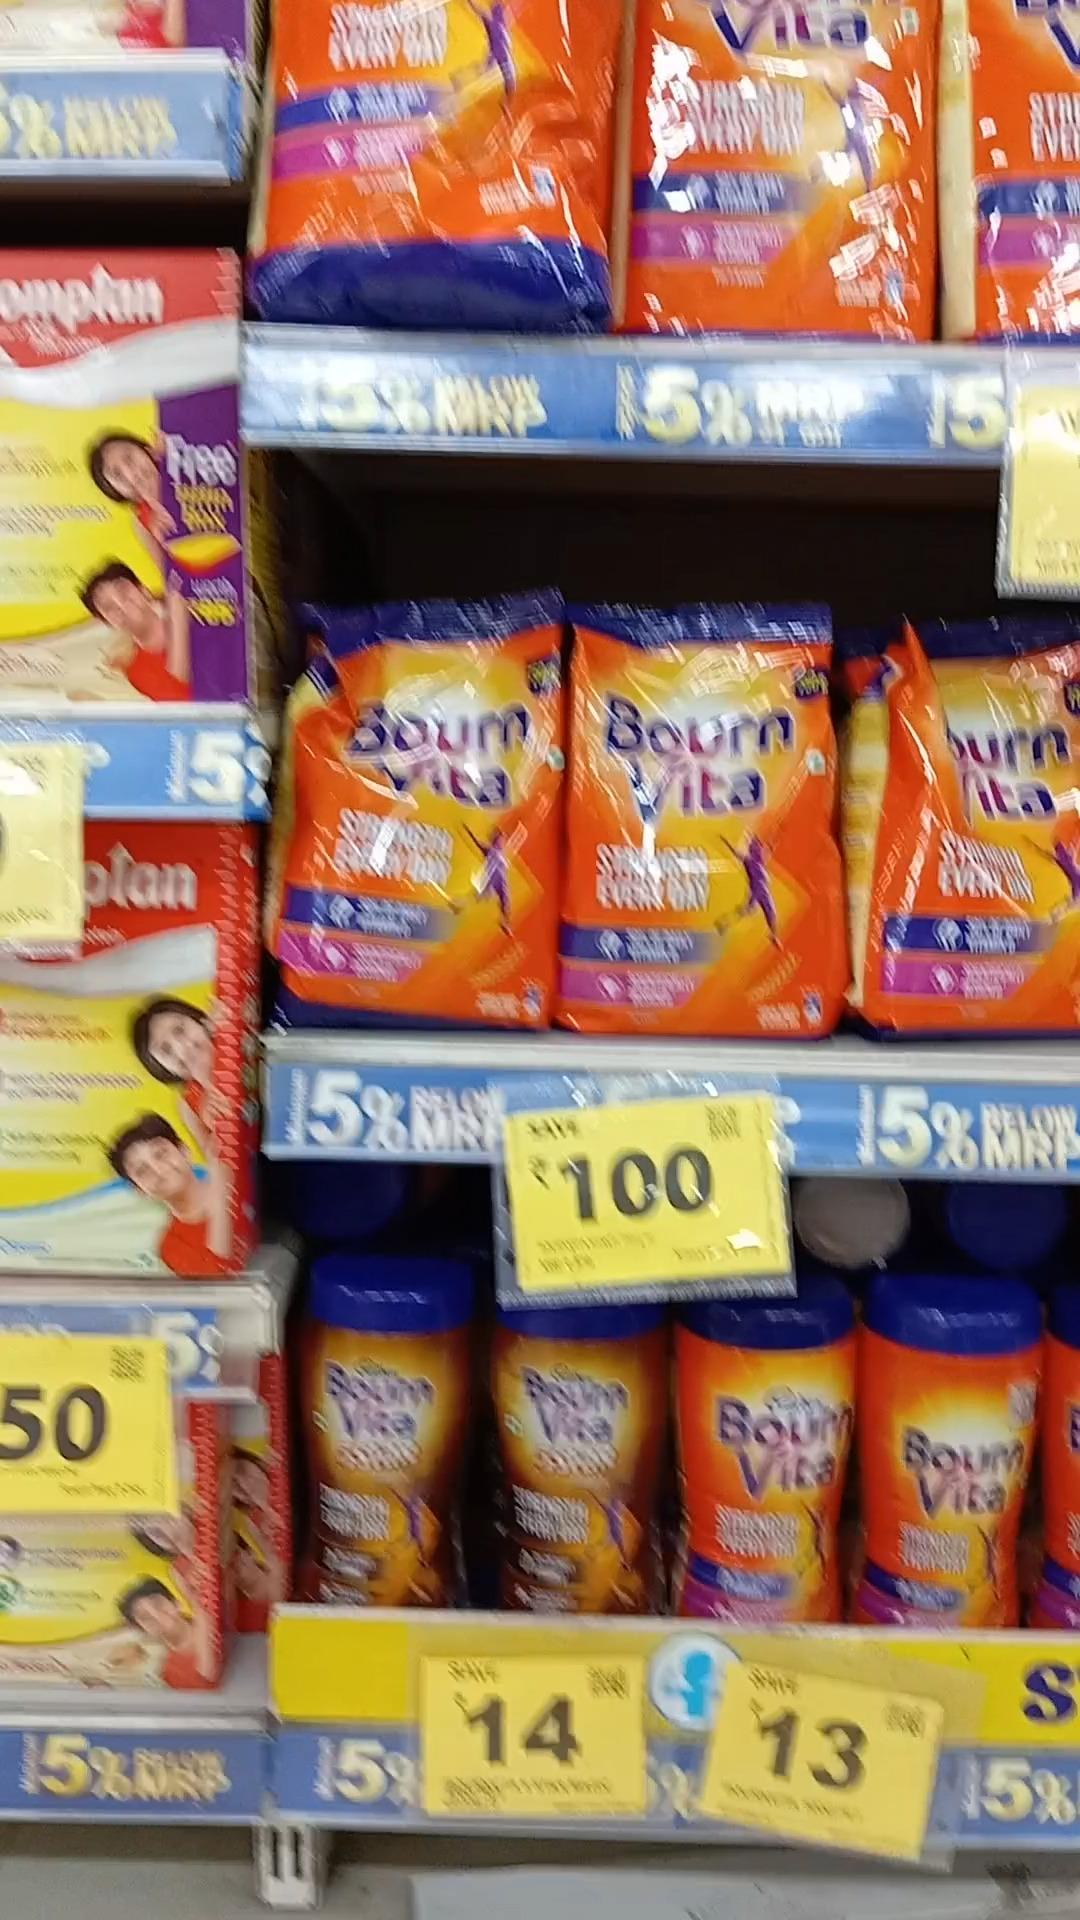BOURN_VITA_500_G_JAR: (856, 1267, 1038, 1621), (680, 1295, 847, 1626)
BOURN_VITA_750_G_POUCH: (568, 607, 847, 1043), (266, 596, 550, 1022), (857, 607, 1080, 1038)
BOURN_VITA_FIVE_STAR_MAGIC_500_G_JAR: (294, 1246, 473, 1605), (491, 1307, 667, 1614)
